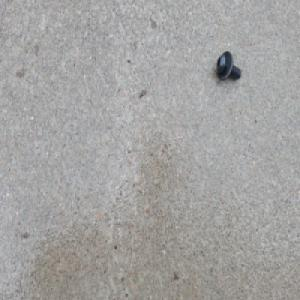BoltWasher: (215, 53, 241, 85)
